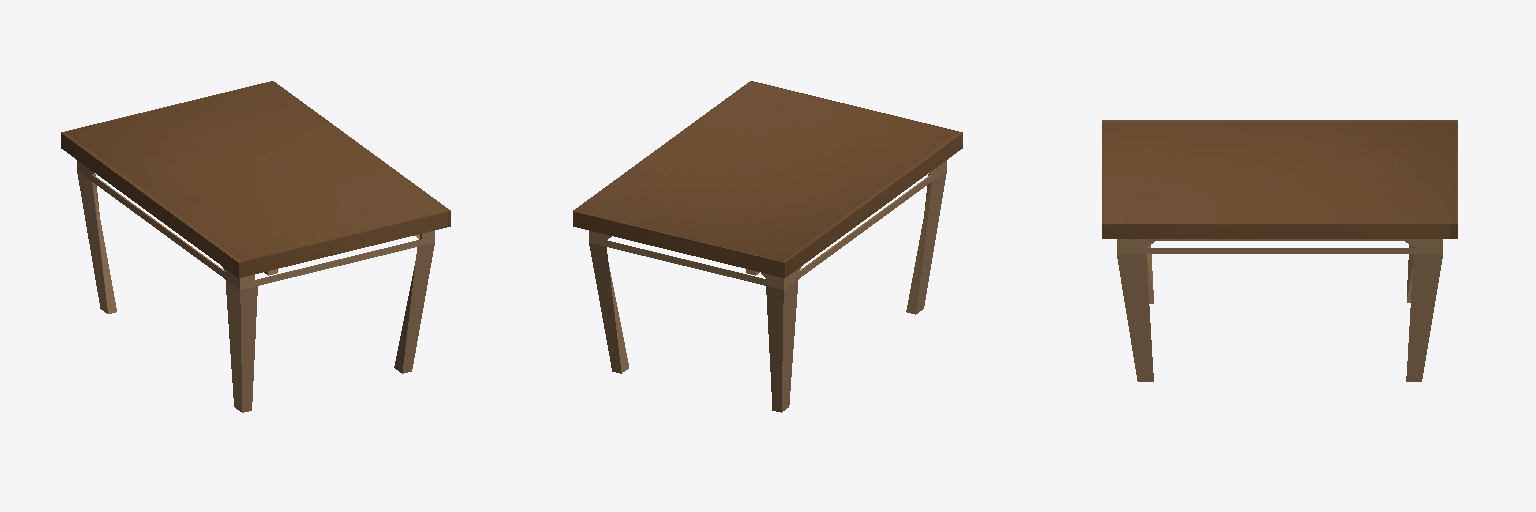
3 renders of one model, left to right at view 1: azimuth 30°, elevation 25°; view 2: azimuth 150°, elevation 25°; view 3: azimuth 270°, elevation 25°, orthographic.
Parts seen in each view (by area): view 1: Mesa_Mesa, PatasMesa_PatasMesa; view 2: Mesa_Mesa, PatasMesa_PatasMesa; view 3: Mesa_Mesa, PatasMesa_PatasMesa.
Part boxes in pixels (bbox=[...]): Mesa_Mesa: bbox=[61, 81, 450, 277]; PatasMesa_PatasMesa: bbox=[77, 160, 434, 412]; Mesa_Mesa: bbox=[573, 81, 962, 277]; PatasMesa_PatasMesa: bbox=[589, 160, 946, 412]; Mesa_Mesa: bbox=[1102, 120, 1457, 238]; PatasMesa_PatasMesa: bbox=[1117, 239, 1442, 381].
Bounding box in the file's own units: 6.16 × 4.66 × 8.95.
Materials: 2 (2 with a texture image).